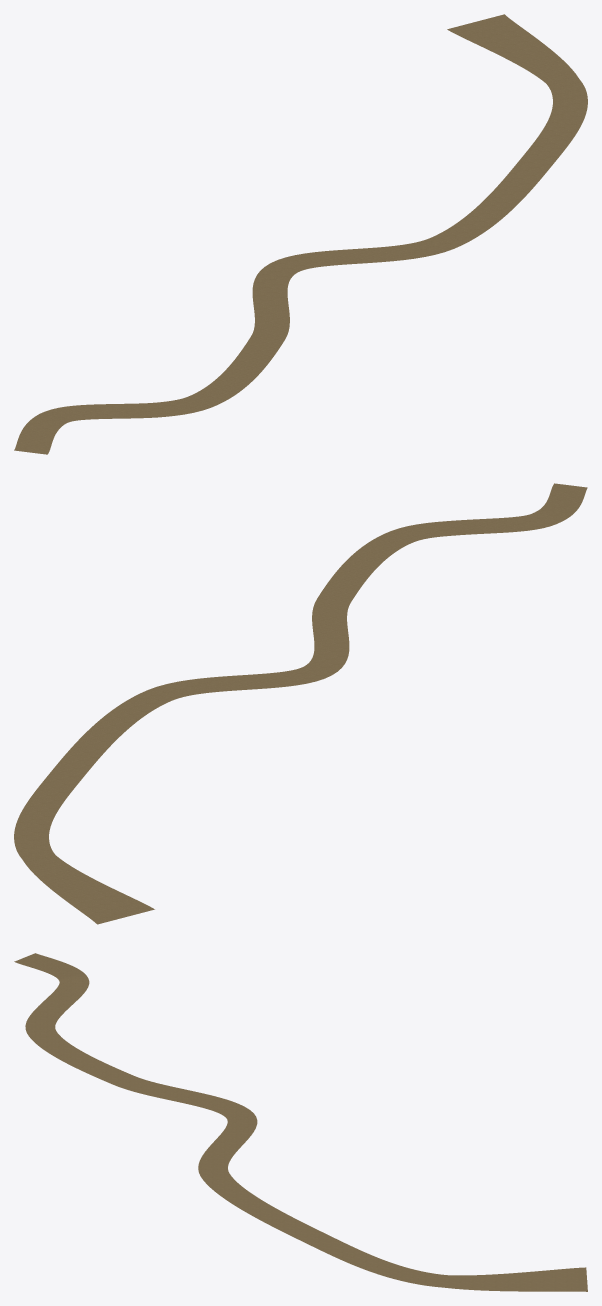
The model's file is path.glb.
3 renders of one model, top to bottom at view 1: azimuth 30°, elevation 25°; view 2: azimuth 210°, elevation 25°; view 3: azimuth 270°, elevation 25°, orthographic. The views are drawn at different scales.
Visible parts, largest first — view 1: Chemin de gravier en serpent; view 2: Chemin de gravier en serpent; view 3: Chemin de gravier en serpent.
Part boxes in pixels (x1=…): Chemin de gravier en serpent: x1=14, y1=14, x2=587, y2=454; Chemin de gravier en serpent: x1=14, y1=483, x2=587, y2=924; Chemin de gravier en serpent: x1=14, y1=953, x2=587, y2=1291.
Size of the model in its own units: 96.84 by 0.1998 by 69.4.
1 material, 1 textured.
